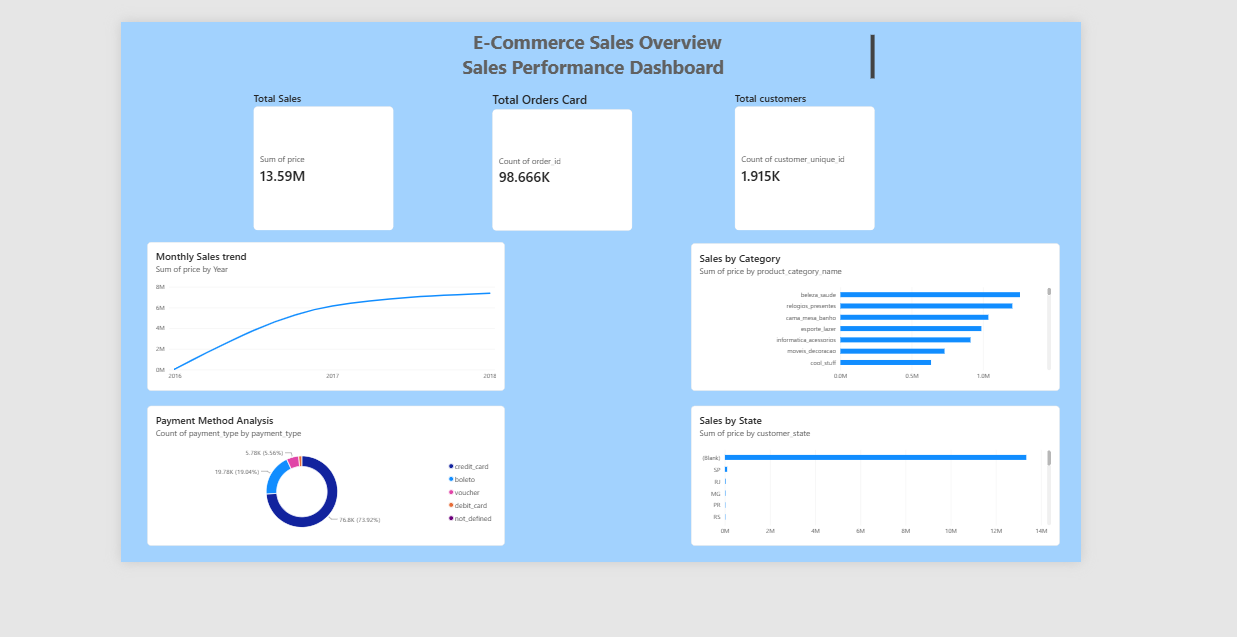

This screenshot's page, from the dashboard's own definition file:
{"tool":"powerbi","page":{"name":"Ecommerce Sales Overview","canvas":[1920,1080],"ordinal":0},"visuals":[{"type":"cardVisual","title":"Total Sales","fields":{"Data":["Sum(ecommerce_analysis olist_order_items_dataset.price)","ecommerce_analysis olist_customers_dataset.Total Sales"]},"box":[75,130,280,280],"z":0},{"type":"cardVisual","title":"Total Orders Card ","fields":{"Data":["Count(ecommerce_analysis olist_order_items_dataset.order_id)","ecommerce_analysis olist_customers_dataset.Total Orders"]},"box":[410,130,280,280],"z":1000},{"type":"cardVisual","title":"Total customers","fields":{"Data":["Count(ecommerce_analysis olist_customers_dataset.customer_unique_id)","ecommerce_analysis olist_customers_dataset.Total Customers"]},"box":[820,130,280,280],"z":2000},{"type":"barChart","title":"Sales by Category","fields":{"Category":["ecommerce_analysis olist_products_dataset.product_category_name"],"Y":["Sum(ecommerce_analysis olist_order_items_dataset.price)"]},"box":[1140,442.5,737.5,295],"z":3000},{"type":"lineChart","title":"Monthly Sales trend","fields":{"Category":["ecommerce_analysis olist_orders_dataset.order_purchase_timestamp.Variation.Date Hierarchy.Year","ecommerce_analysis olist_orders_dataset.order_purchase_timestamp.Variation.Date Hierarchy.Month"],"Y":["Sum(ecommerce_analysis olist_order_items_dataset.price)"]},"box":[52.5,440,715,297.5],"z":4000},{"type":"donutChart","title":"Payment Method Analysis","fields":{"Category":["ecommerce_analysis olist_order_payments_dataset.payment_type"],"Y":["CountNonNull(ecommerce_analysis olist_order_payments_dataset.payment_type)"]},"box":[52.5,767.5,715,280],"z":5000},{"type":"clusteredBarChart","title":"Sales by State","fields":{"Category":["ecommerce_analysis olist_customers_dataset.customer_state"],"Y":["Sum(ecommerce_analysis olist_order_items_dataset.price)"]},"box":[1140,767.5,737.5,280],"z":6000},{"type":"textbox","box":[80,332.5,265,42.5],"z":7000},{"type":"textbox","box":[80,440,163,298],"z":8000},{"type":"cardVisual","title":"Average order value","fields":{"Data":["ecommerce_analysis olist_customers_dataset.Average Order Value"]},"box":[1230,130,280,280],"z":9001},{"type":"cardVisual","title":"Total Shipping Cost","fields":{"Data":["ecommerce_analysis olist_customers_dataset.Total Freight"]},"box":[1555,140,280,280],"z":9002},{"type":"textbox","box":[723.3,23.3,570,106.7],"z":9003}]}

Visuals, with their boxes on the page's 1920x1080 design canvas (x1, y1, x2, y2). These are canvas units, not pixel positions in the 1237x637 screenshot, which may show the page scaled, cropped or inside an application window:
"Total Sales" cardVisual: detection(75, 130, 355, 410)
"Total Orders Card " cardVisual: detection(410, 130, 690, 410)
"Total customers" cardVisual: detection(820, 130, 1100, 410)
"Sales by Category" barChart: detection(1140, 442, 1878, 738)
"Monthly Sales trend" lineChart: detection(52, 440, 768, 738)
"Payment Method Analysis" donutChart: detection(52, 768, 768, 1048)
"Sales by State" clusteredBarChart: detection(1140, 768, 1878, 1048)
textbox: detection(80, 332, 345, 375)
textbox: detection(80, 440, 243, 738)
"Average order value" cardVisual: detection(1230, 130, 1510, 410)
"Total Shipping Cost" cardVisual: detection(1555, 140, 1835, 420)
textbox: detection(723, 23, 1293, 130)
